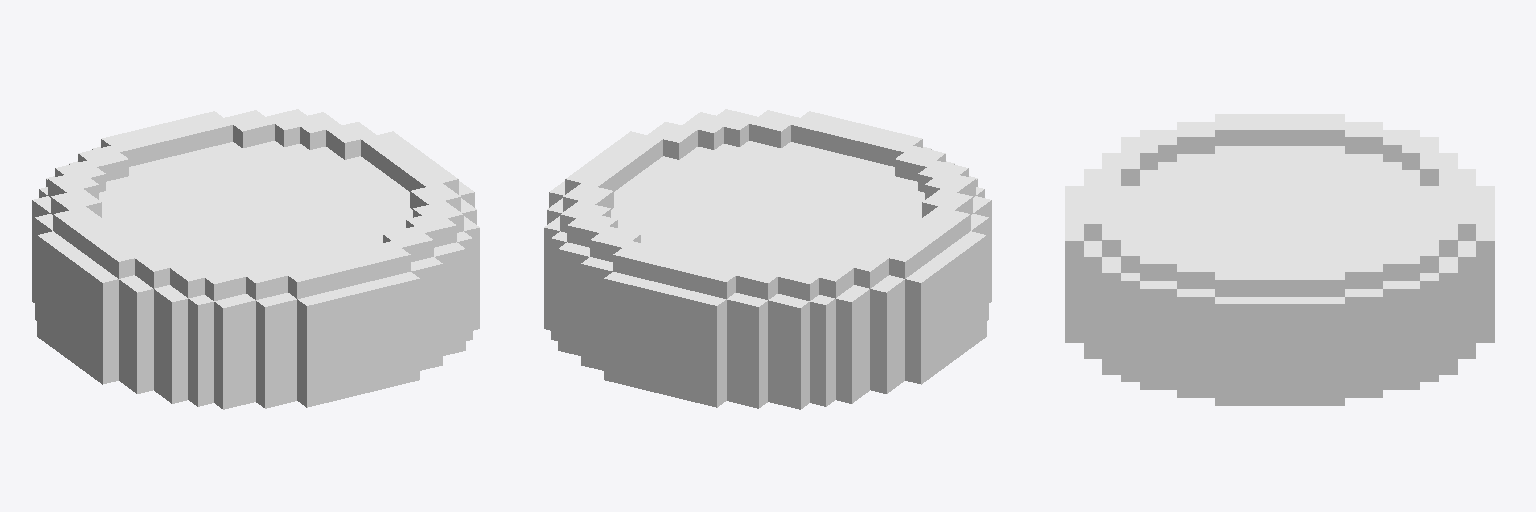
The model's file is cap_3_1.1.obj.
3 renders of one model, left to right at view 1: azimuth 30°, elevation 25°; view 2: azimuth 150°, elevation 25°; view 3: azimuth 270°, elevation 25°, orthographic.
Visible parts, largest first — view 1: object 1; view 2: object 1; view 3: object 1.
Boxes of the visible parts, x1,y1,x2,y2 form: object 1: [32, 109, 479, 409]; object 1: [544, 109, 991, 409]; object 1: [1065, 114, 1494, 405].
Bounding box in the file's own units: 2.3 × 0.7 × 2.3.